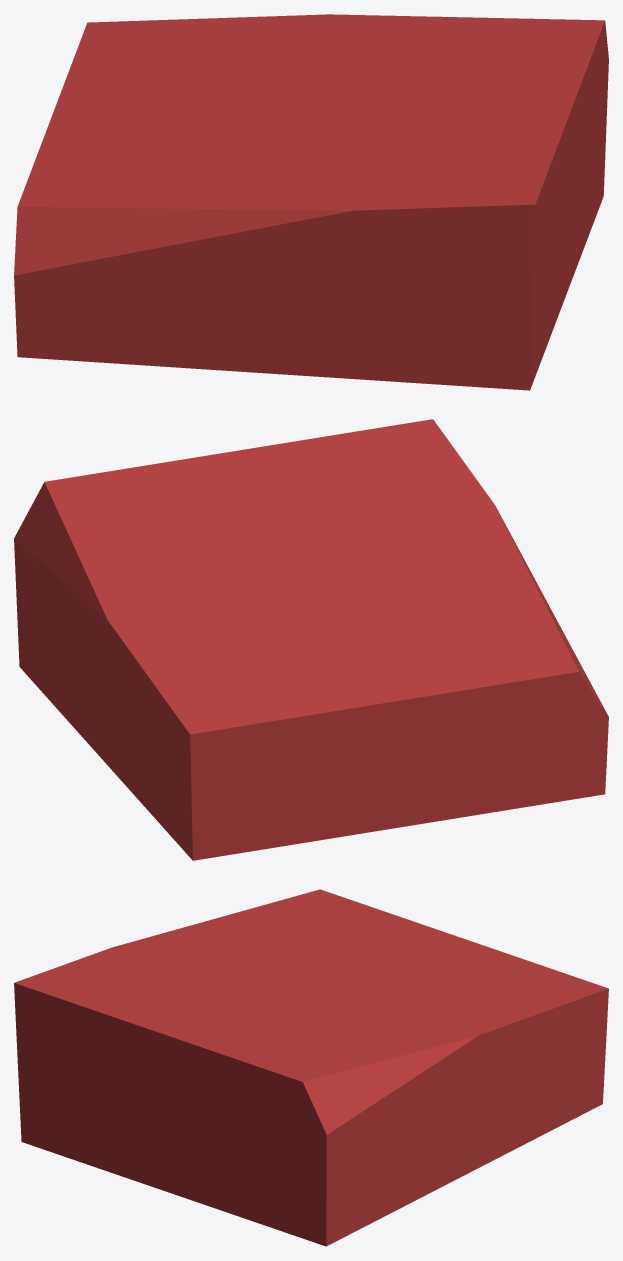
The model's file is ea_arch_wall03_rubble_01b_pre__19__5_lev1.glb.
3 renders of one model, top to bottom at view 1: azimuth 30°, elevation 25°; view 2: azimuth 150°, elevation 25°; view 3: azimuth 270°, elevation 25°, orthographic. The views are drawn at different scales.
Parts seen in each view (by area): view 1: ea_arch_wall03_rubble_01b_pre__19__5_lev1; view 2: ea_arch_wall03_rubble_01b_pre__19__5_lev1; view 3: ea_arch_wall03_rubble_01b_pre__19__5_lev1.
Part boxes in pixels (box(x1,y1,x2,y2)): ea_arch_wall03_rubble_01b_pre__19__5_lev1: box(14, 14, 608, 390); ea_arch_wall03_rubble_01b_pre__19__5_lev1: box(14, 419, 608, 860); ea_arch_wall03_rubble_01b_pre__19__5_lev1: box(14, 889, 608, 1246).
Size of the model in its own units: 0.441 by 0.1305 by 0.4397.
Materials: 1 (1 with a texture image).
